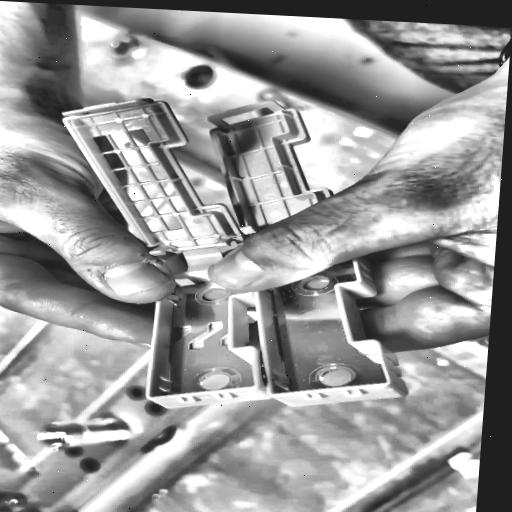connector: (35, 79, 437, 416)
